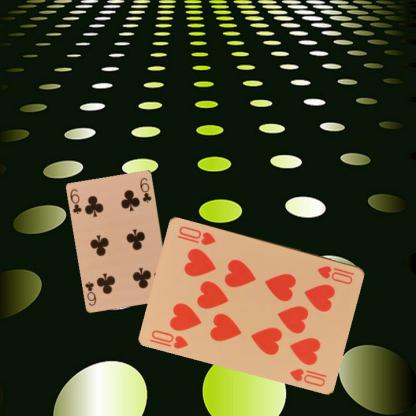10h: (149, 327, 190, 350), (315, 263, 356, 285)
6c: (68, 186, 83, 216)
